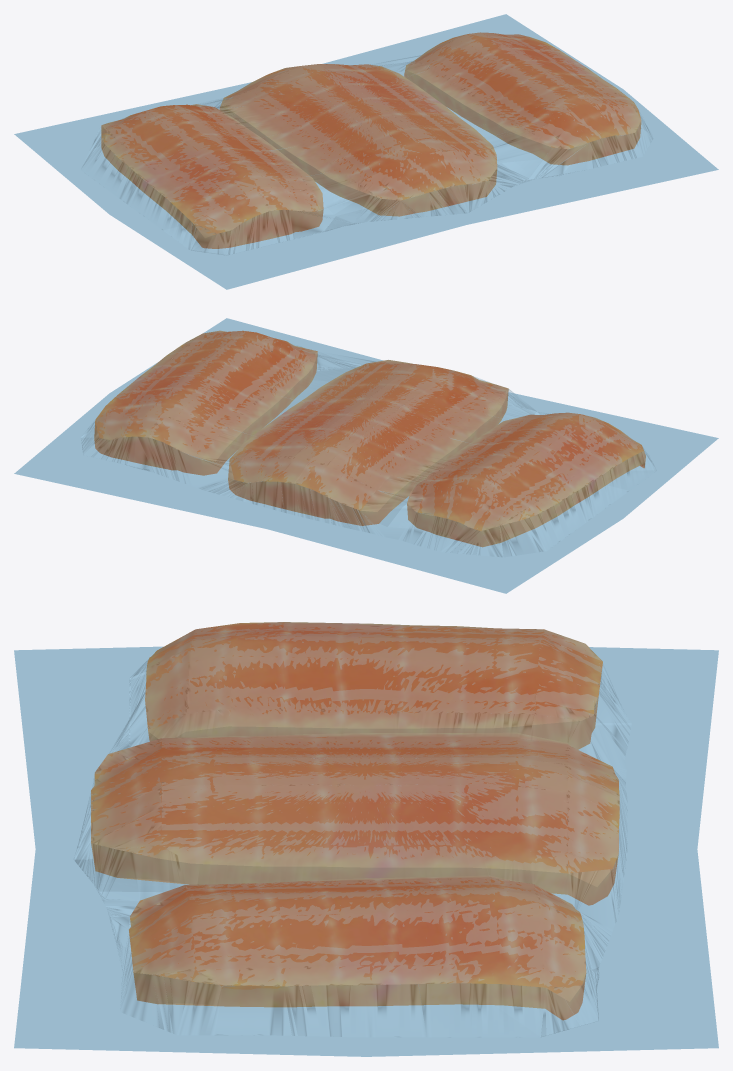
File: unagi3.glb
The picture shows the model from 3 angles, top to bottom: view 1: azimuth 30°, elevation 25°; view 2: azimuth 150°, elevation 25°; view 3: azimuth 270°, elevation 25°; orthographic projection. The views are drawn at different scales.
Parts seen in each view (by area): view 1: Plane, Sphere, Plane.001; view 2: Plane, Sphere, Plane.001; view 3: Plane, Sphere, Plane.001.
Part boxes in pixels (x1,y1,x2,y2): Plane: (81, 32, 653, 255); Sphere: (81, 32, 653, 255); Plane.001: (14, 14, 718, 289); Plane: (80, 330, 656, 557); Sphere: (80, 331, 656, 557); Plane.001: (14, 318, 718, 593); Plane: (73, 622, 631, 1037); Sphere: (74, 622, 631, 1037); Plane.001: (14, 646, 718, 1056).
Size of the model in its own units: 1.83 by 0.2412 by 1.31.
3 materials, 1 textured.
